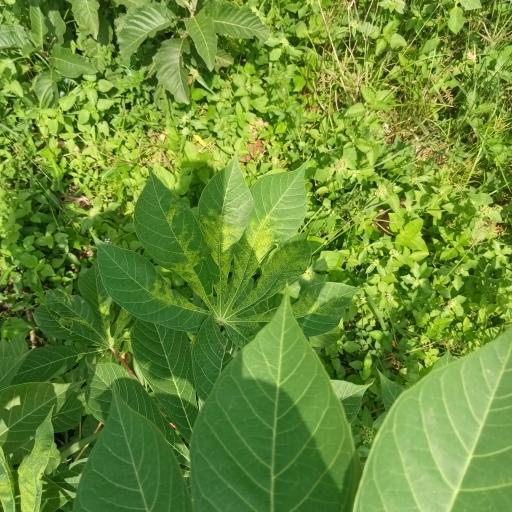Cassava_Healthy: (100, 163, 345, 376)
